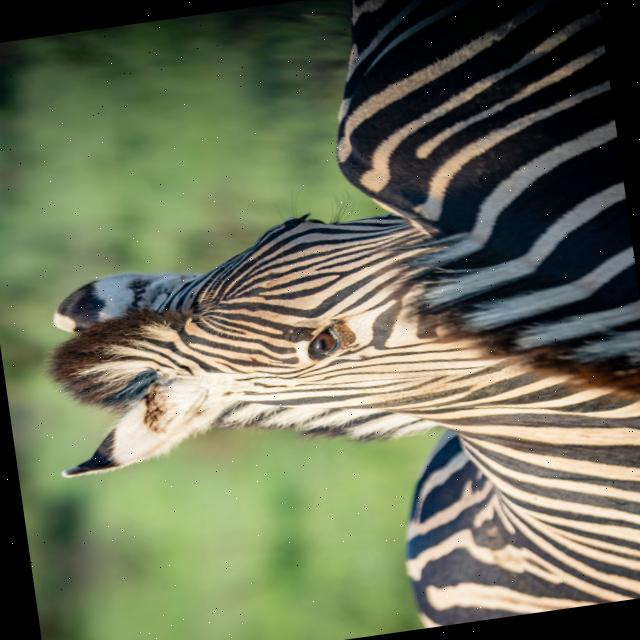Zebra: (27, 161, 640, 640)
